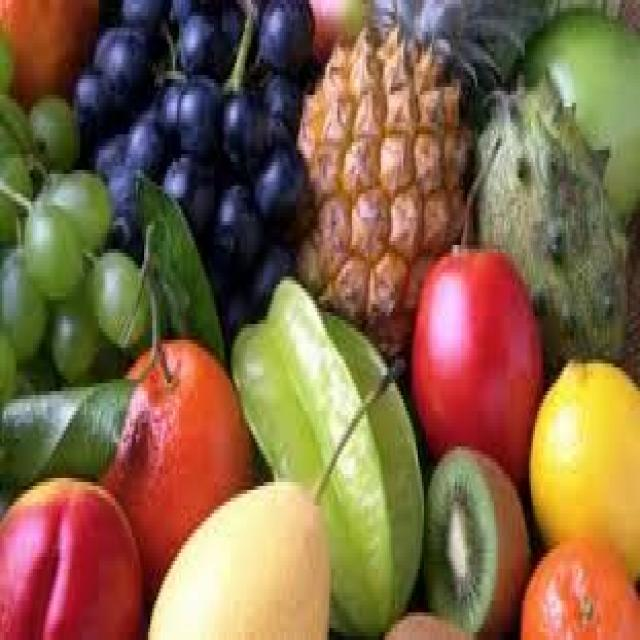organic waste: (294, 0, 533, 352), (144, 356, 405, 636), (228, 273, 426, 632), (469, 75, 624, 367), (101, 332, 255, 600), (409, 237, 544, 474), (516, 4, 638, 217), (529, 348, 638, 569), (0, 470, 144, 636), (424, 435, 529, 636), (516, 529, 638, 636), (0, 0, 93, 91), (20, 202, 84, 296), (89, 245, 150, 336), (43, 273, 97, 375), (0, 241, 47, 355), (253, 126, 303, 214), (163, 146, 214, 229), (53, 166, 105, 245), (212, 178, 257, 268), (259, 0, 313, 67), (218, 83, 266, 158), (27, 95, 76, 166), (93, 28, 142, 98), (302, 0, 364, 55), (175, 75, 218, 150), (0, 130, 33, 226), (103, 158, 146, 229), (262, 64, 302, 134), (381, 604, 467, 636), (122, 110, 164, 173), (251, 241, 288, 304), (74, 68, 107, 130), (150, 75, 181, 138), (173, 12, 208, 67), (121, 0, 167, 40), (218, 0, 259, 43), (0, 316, 21, 399), (0, 95, 25, 158), (222, 296, 251, 344), (95, 130, 122, 170), (0, 31, 12, 90)
